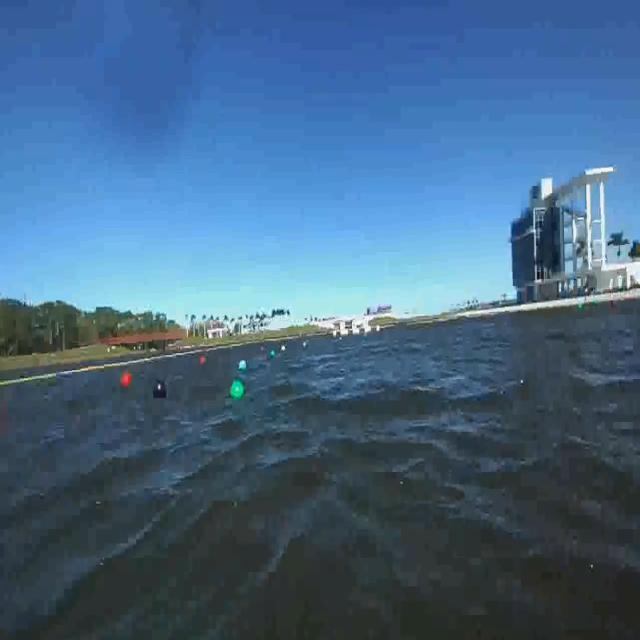black-buoy: (154, 379, 168, 399)
green-buoy: (232, 379, 246, 400), (239, 356, 247, 374)
red-buoy: (120, 372, 132, 390)
